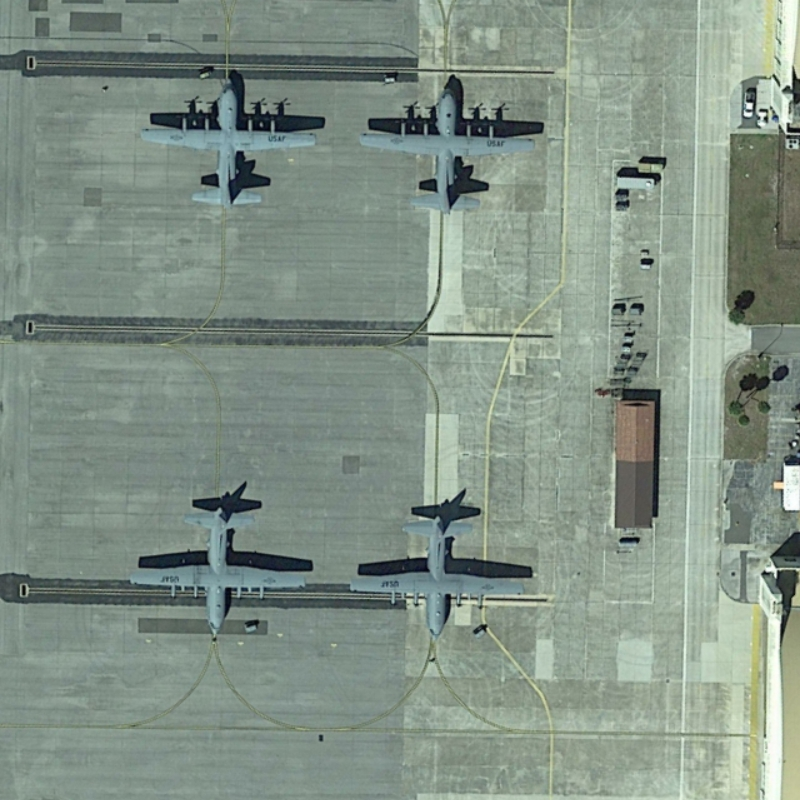A2: (339, 502, 545, 644), (125, 499, 318, 648), (132, 72, 326, 213), (354, 78, 541, 217)
